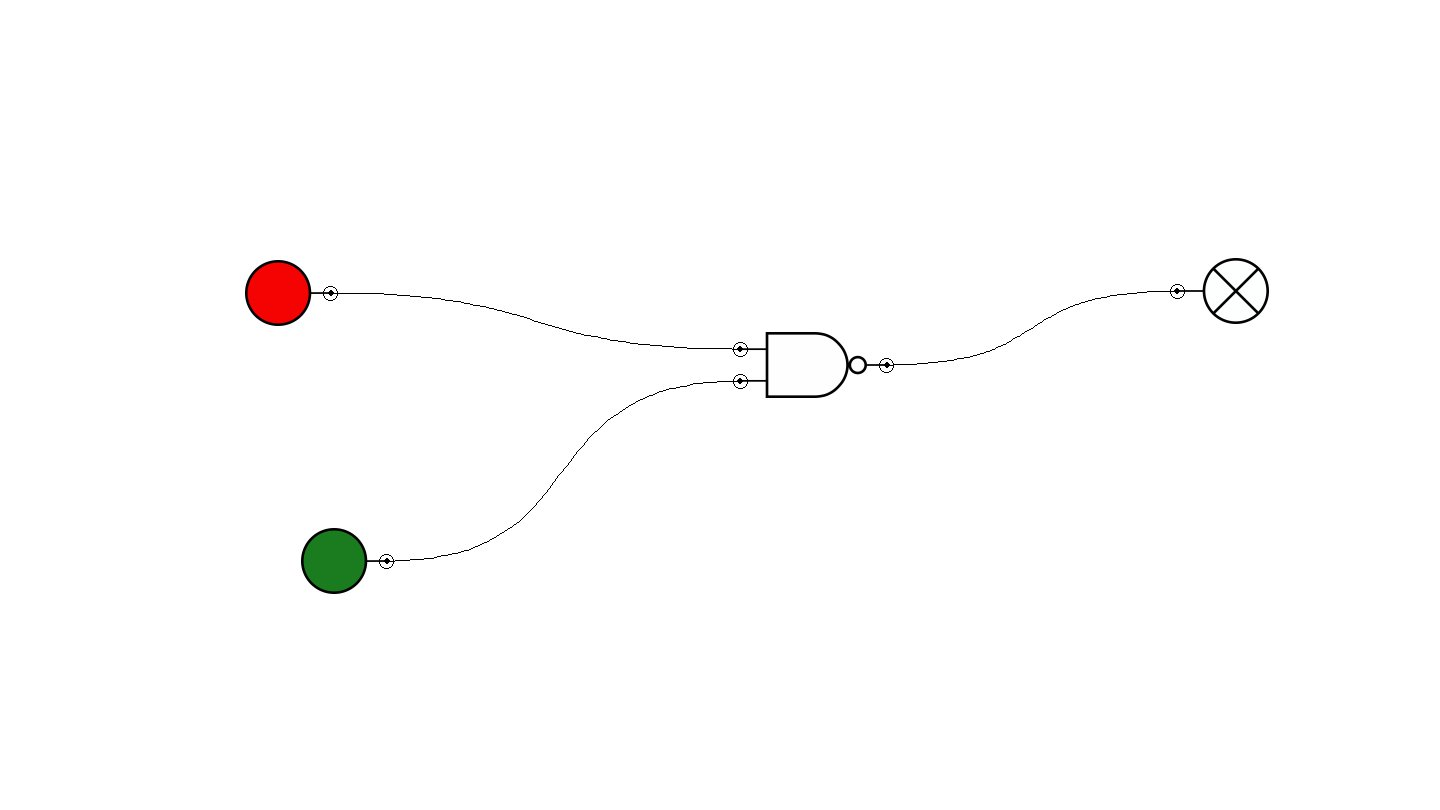bulb: (1170, 258, 1269, 324)
nand: (733, 332, 894, 398)
switch_False: (245, 260, 338, 326)
switch_True: (301, 528, 394, 594)
